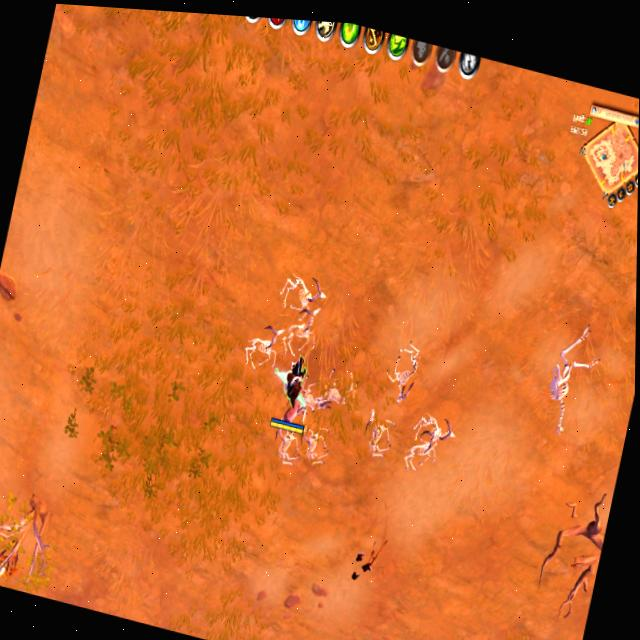hide: (0, 532, 23, 585)
mob: (282, 390, 310, 427)
red: (269, 354, 317, 440)
